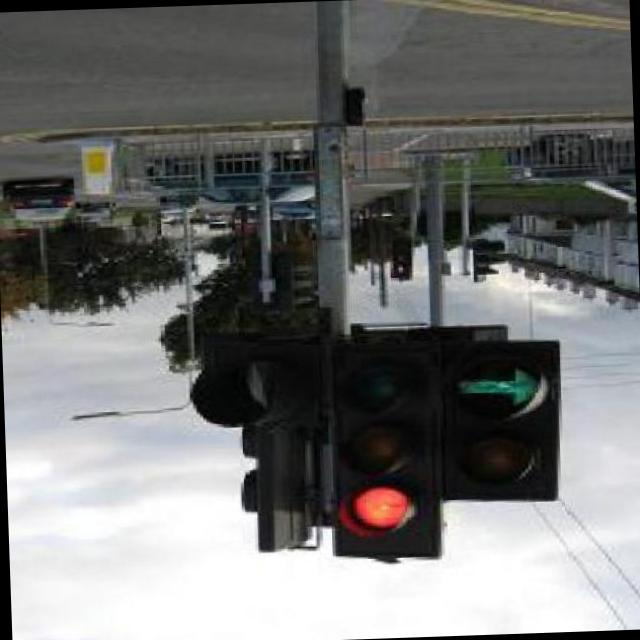red-lights: (327, 472, 442, 560)
